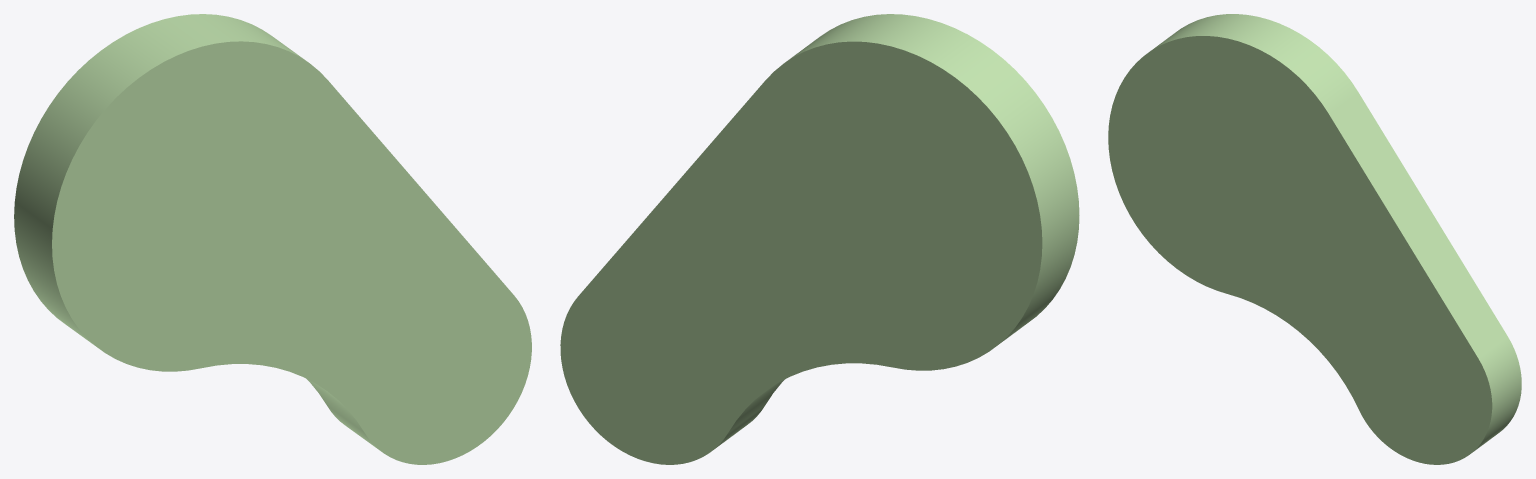
The model's file is _MTn8HoecFwNHGSxBF.gltf.
3 views of the same model, side by side, from view 1: azimuth 30°, elevation 25°; view 2: azimuth 150°, elevation 25°; view 3: azimuth 330°, elevation 25° (orthographic). The views are drawn at different scales.
Visible parts, largest first — view 1: Servo link; view 2: Servo link; view 3: Servo link.
Boxes of the visible parts, x1,y1,x2,y2 form: Servo link: (14,14,531,464); Servo link: (560,14,1079,464); Servo link: (1108,14,1521,464).
Size of the model in its own units: 0.0378 by 0.0356 by 0.00531.
